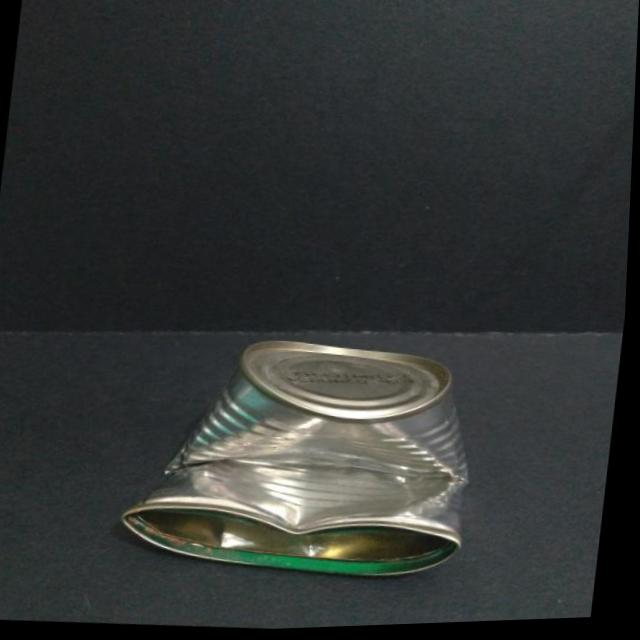metal: (123, 340, 466, 575)
